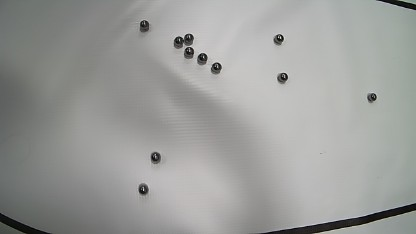ironball: (197, 52, 208, 65), (173, 36, 184, 48), (184, 33, 194, 45), (184, 46, 194, 58), (139, 20, 149, 32), (211, 62, 221, 74), (138, 183, 148, 195), (150, 151, 160, 163), (273, 34, 284, 44), (277, 72, 288, 82), (367, 92, 377, 102)
